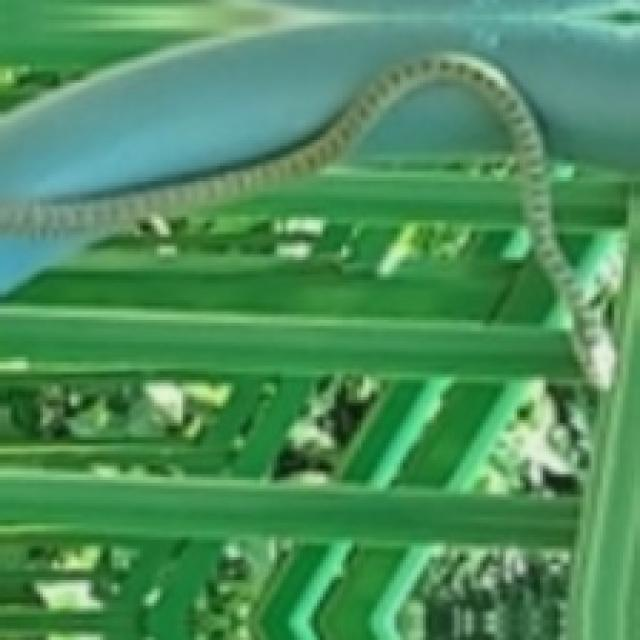paradise tree snake: (0, 51, 611, 386)
